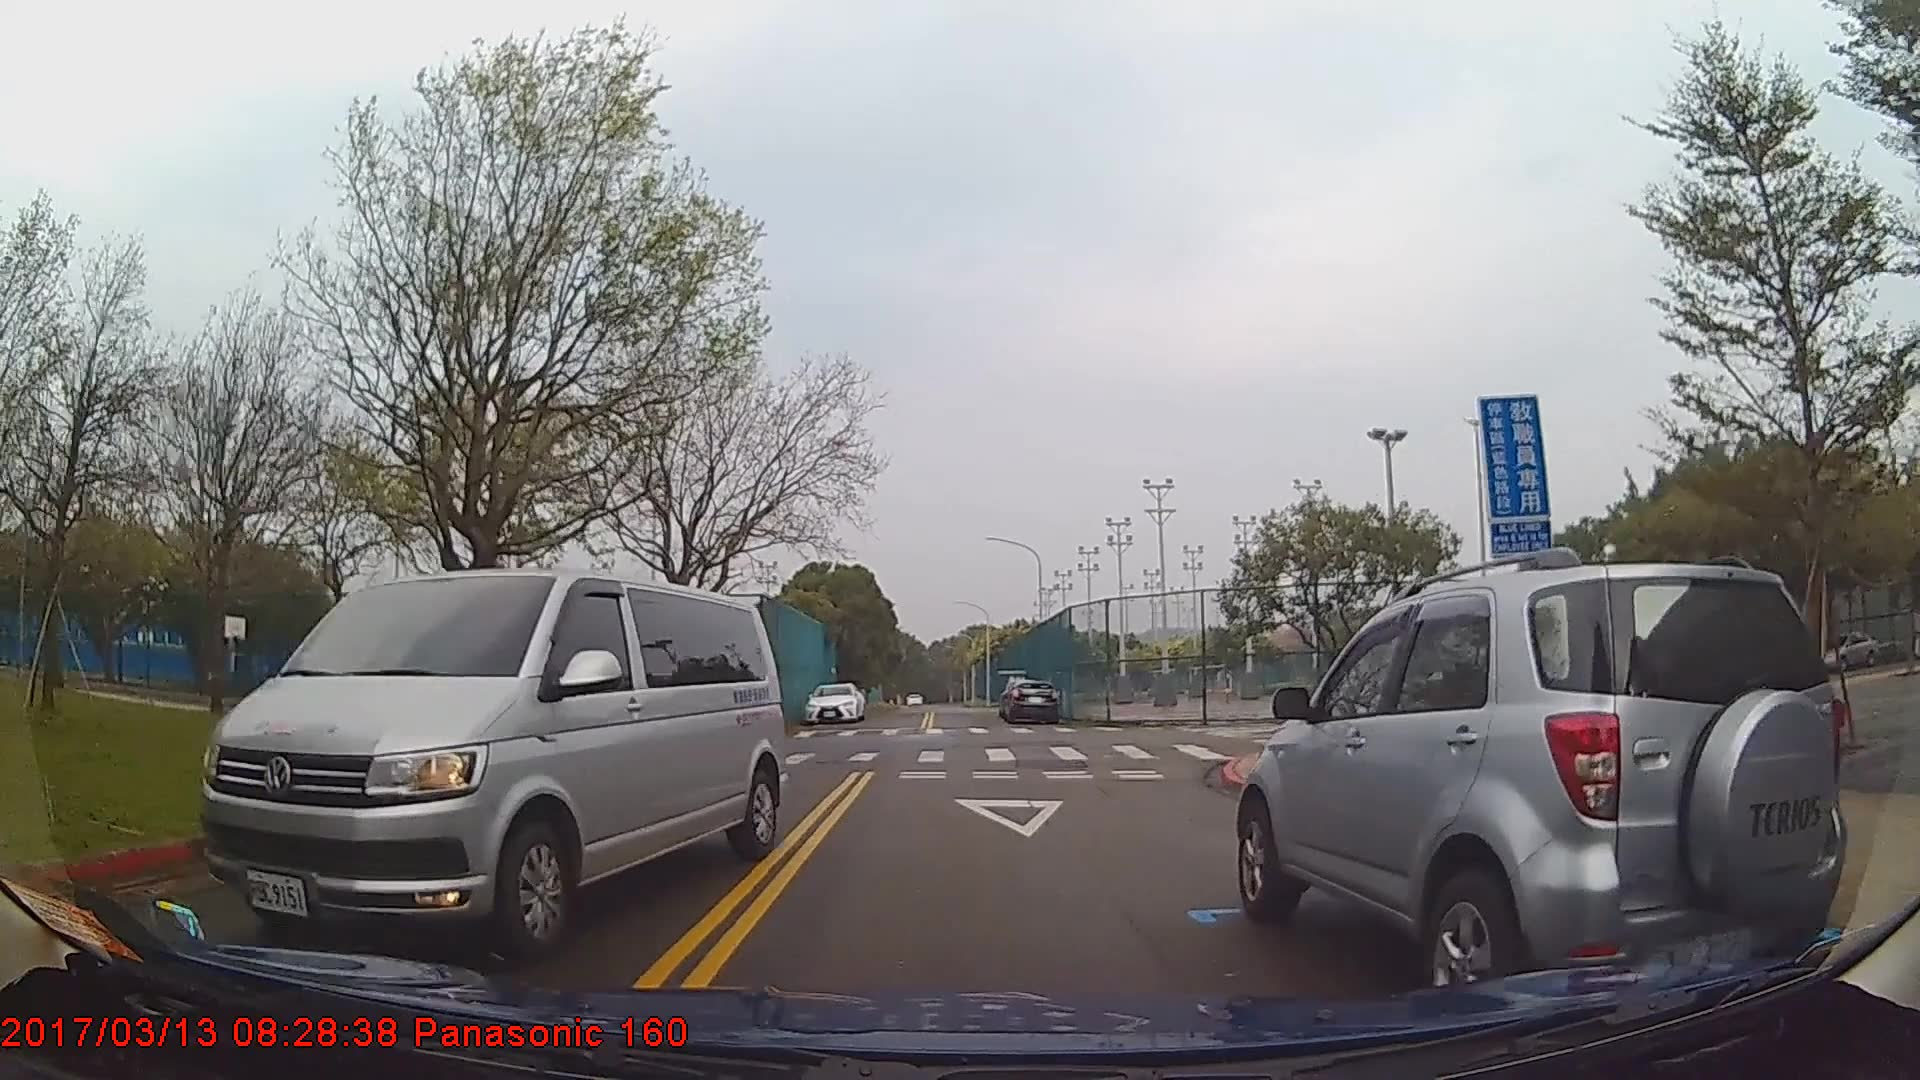vehicle: (1238, 560, 1849, 1013), (195, 564, 787, 959), (1004, 679, 1060, 725), (804, 680, 862, 724), (1818, 632, 1878, 673)
